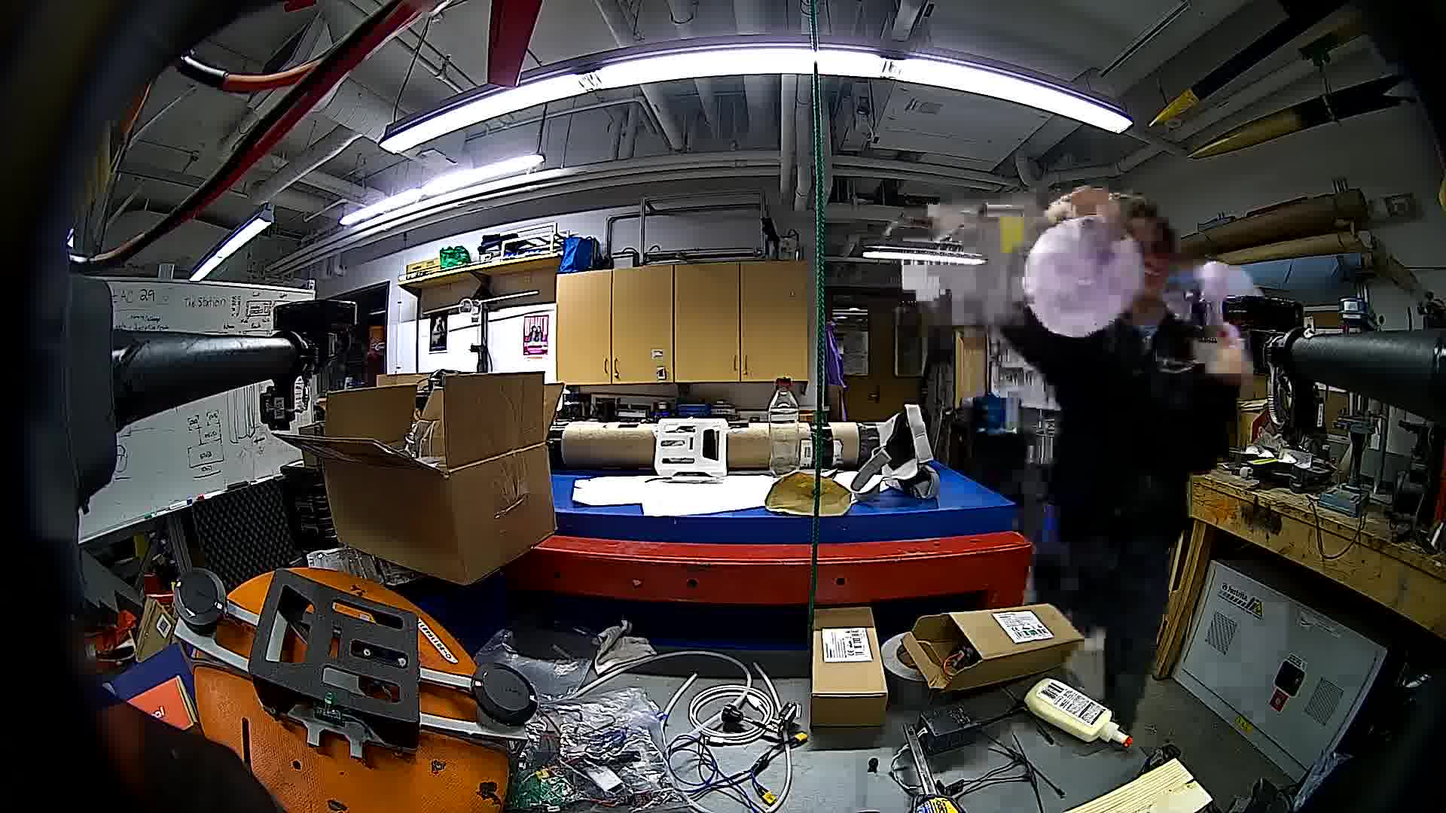Target: (1018, 209, 1149, 343)
